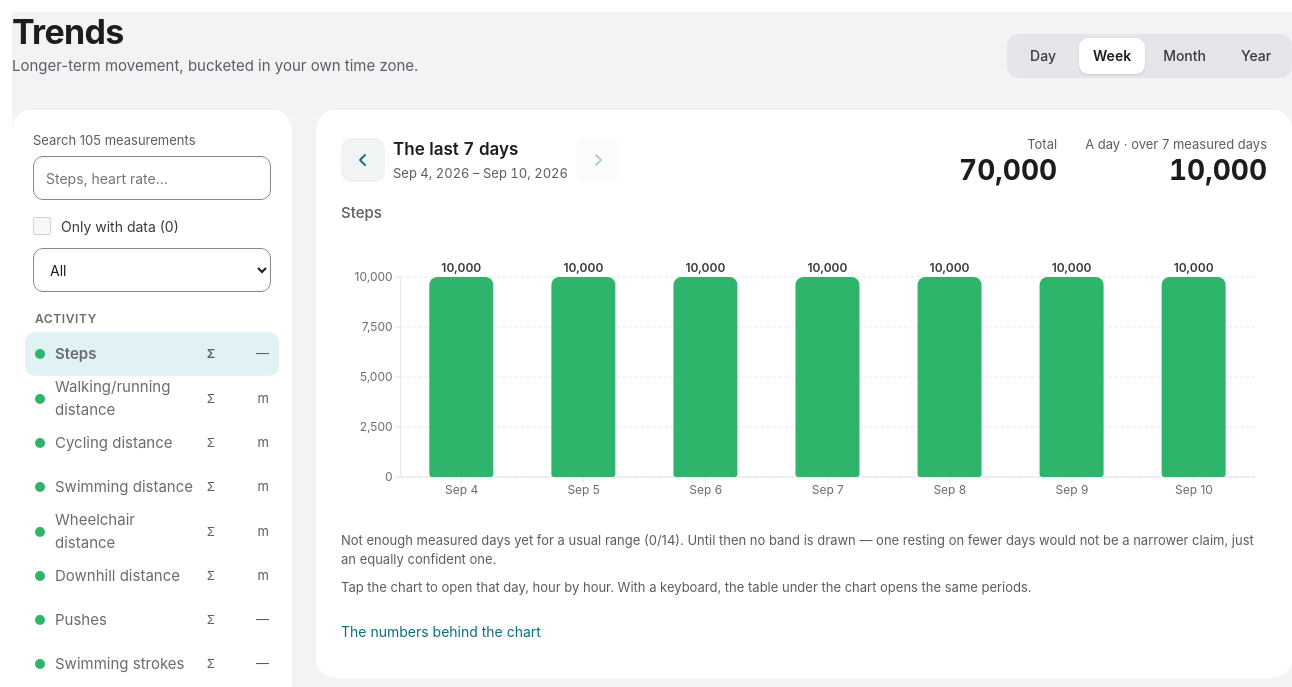
Scenario: the Trends period stepper › returns to the present when the width changes
Expected: the text "The last 7 days" is shown, [393, 139, 518, 159]
Click the button named "Earlier period" at point(363, 160), box [341, 138, 385, 182]
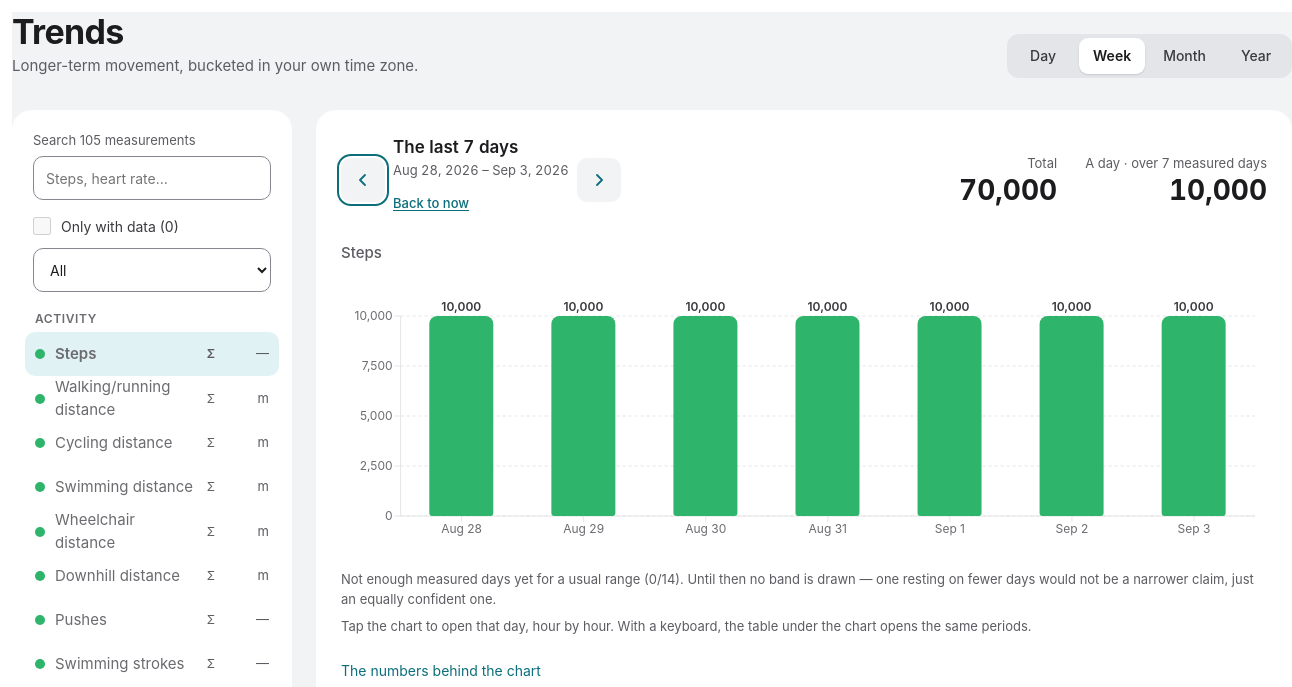
Now the text "Aug 28, 2026 – Sep 3, 2026" is shown, box [393, 161, 569, 181]
Click the button "Month" at point(1185, 56), box [1149, 38, 1220, 74]
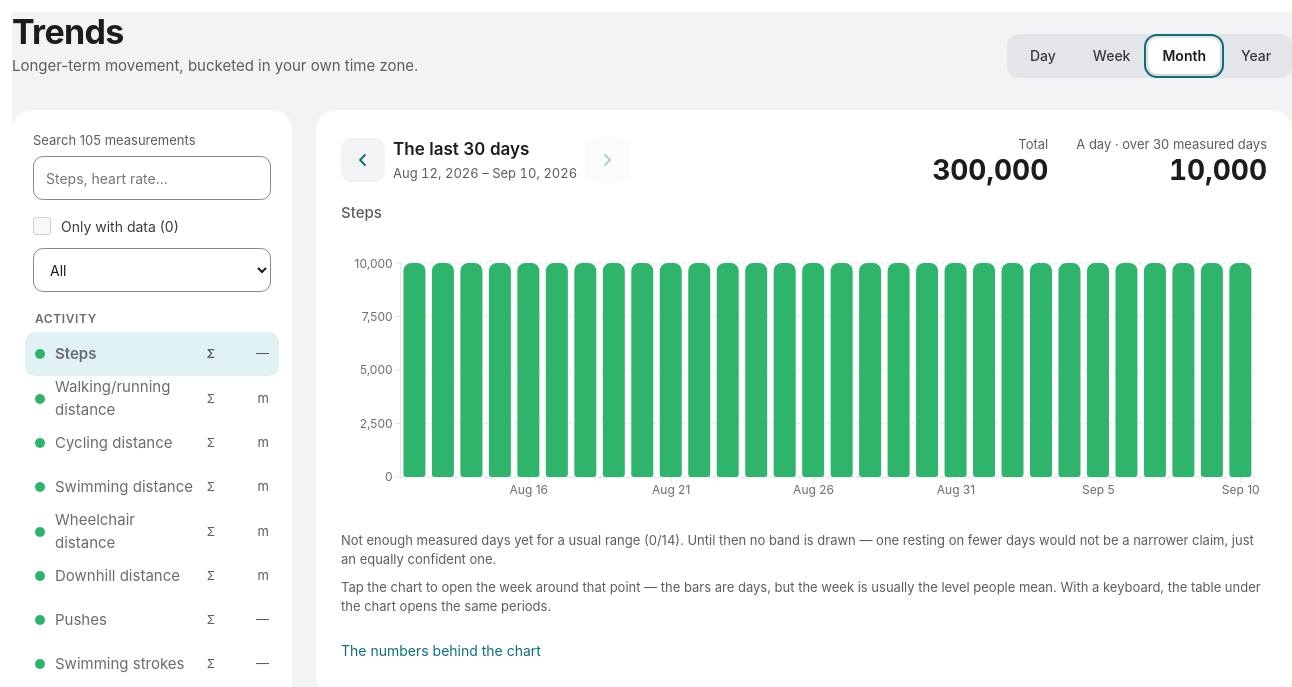
Now the text "The last 30 days" is shown, box [393, 139, 529, 159]
Now the text "Aug 12, 2026 – Sep 10, 2026" is shown, box [393, 164, 577, 183]
